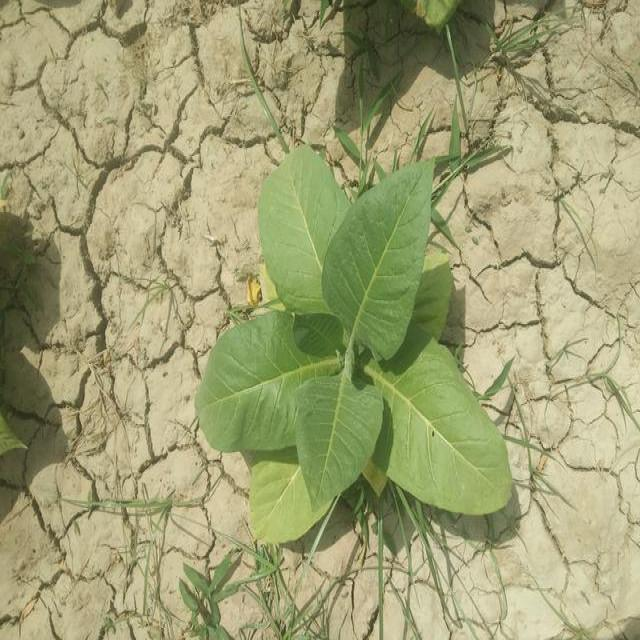crop: (206, 141, 516, 528)
